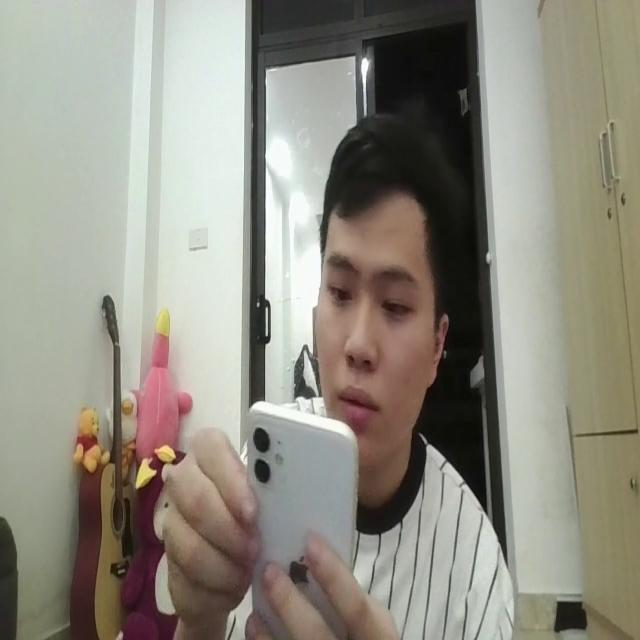phone: (245, 386, 360, 630)
student: (162, 108, 515, 640)
